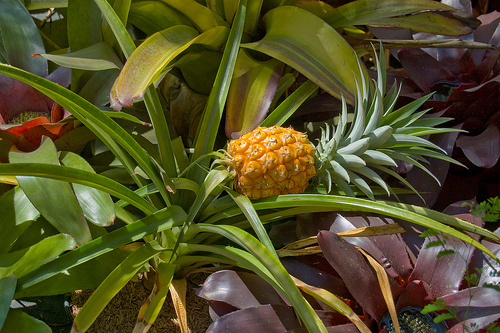pineapple: (220, 41, 459, 204)
